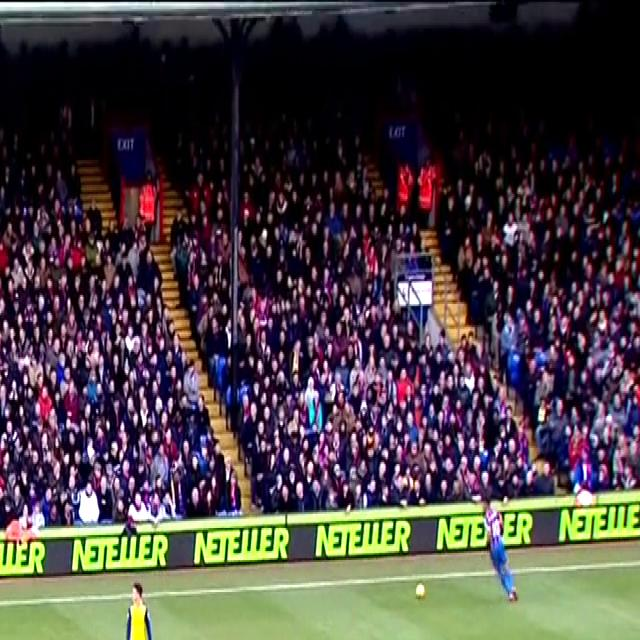ball: (410, 578, 431, 605)
soccer-player: (477, 498, 525, 606), (112, 576, 165, 640)
